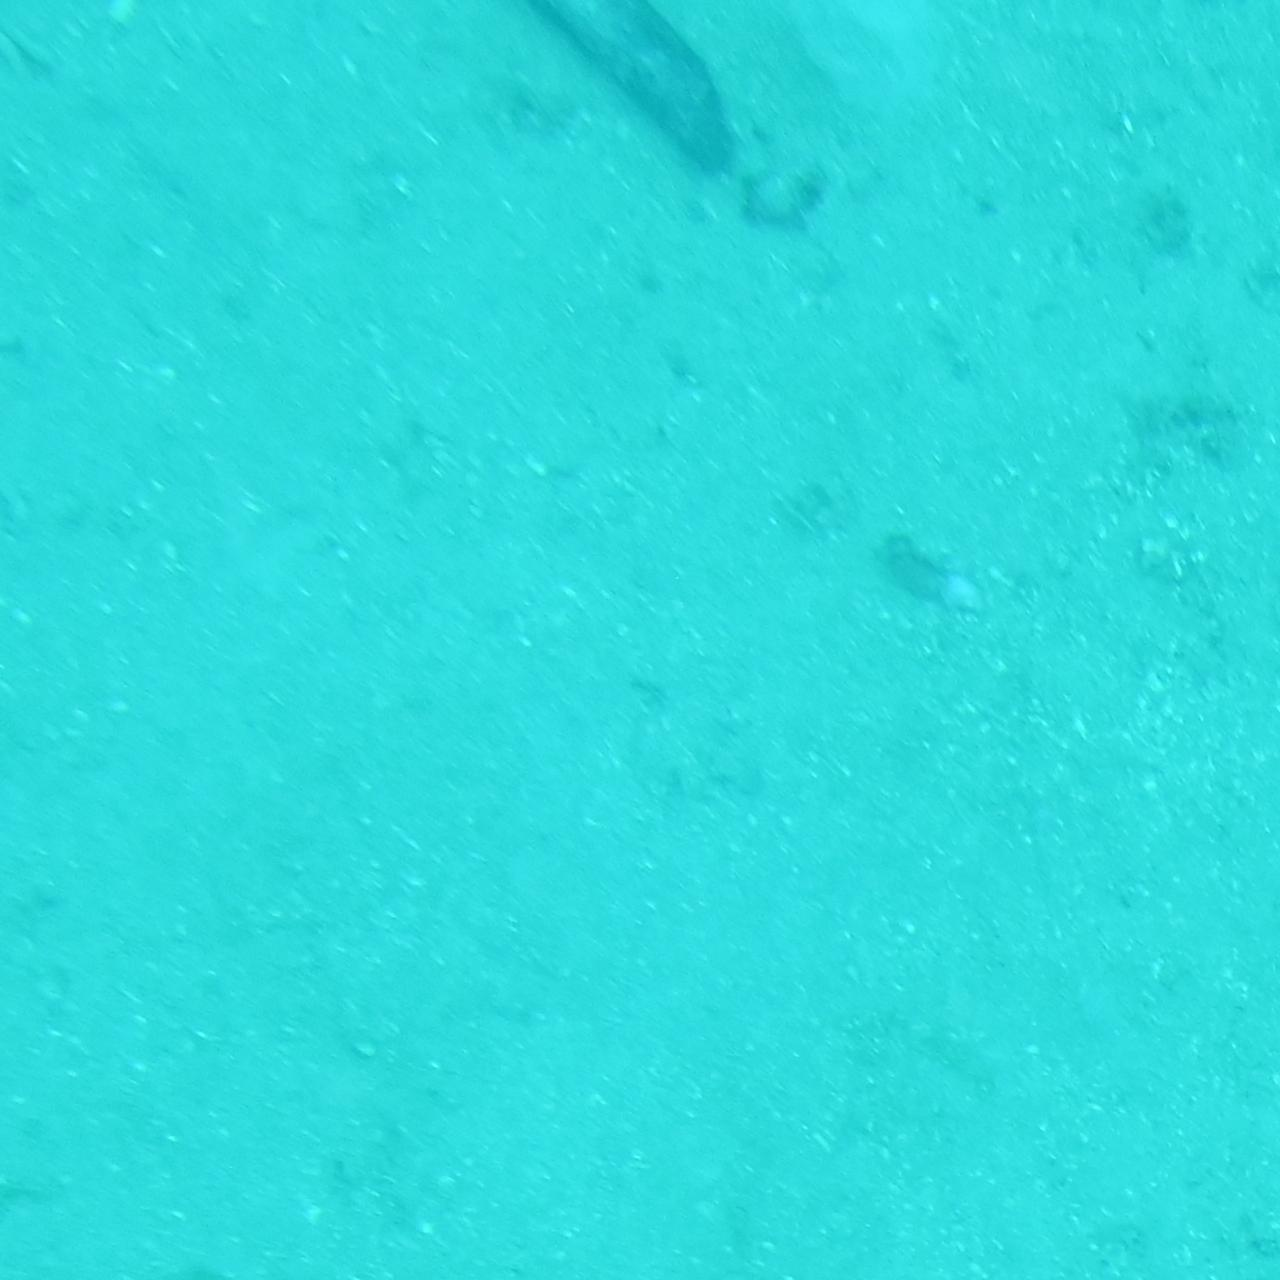Holothuria tubulosa: (529, 0, 751, 194)
